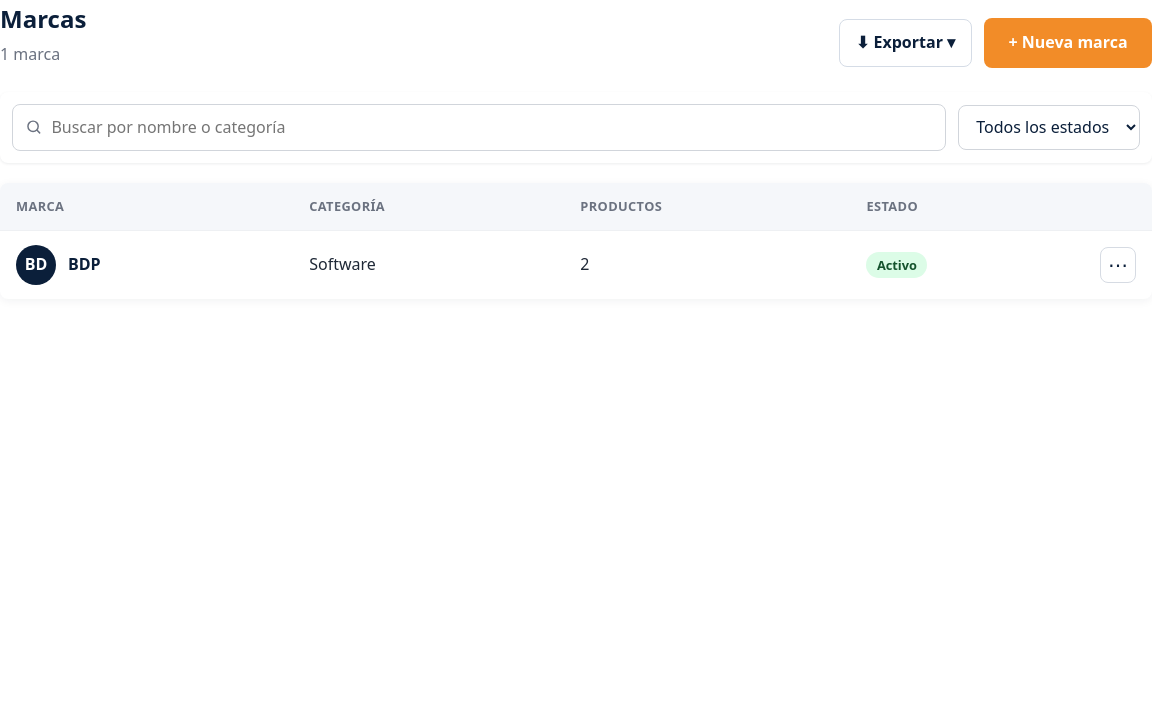
Test case: admin CRUD screens › Marcas: lists the brands, creates one and deletes one after confirming
Step 1. Click the button "+ Nueva marca" → click(1068, 43), box [984,18,1151,68]
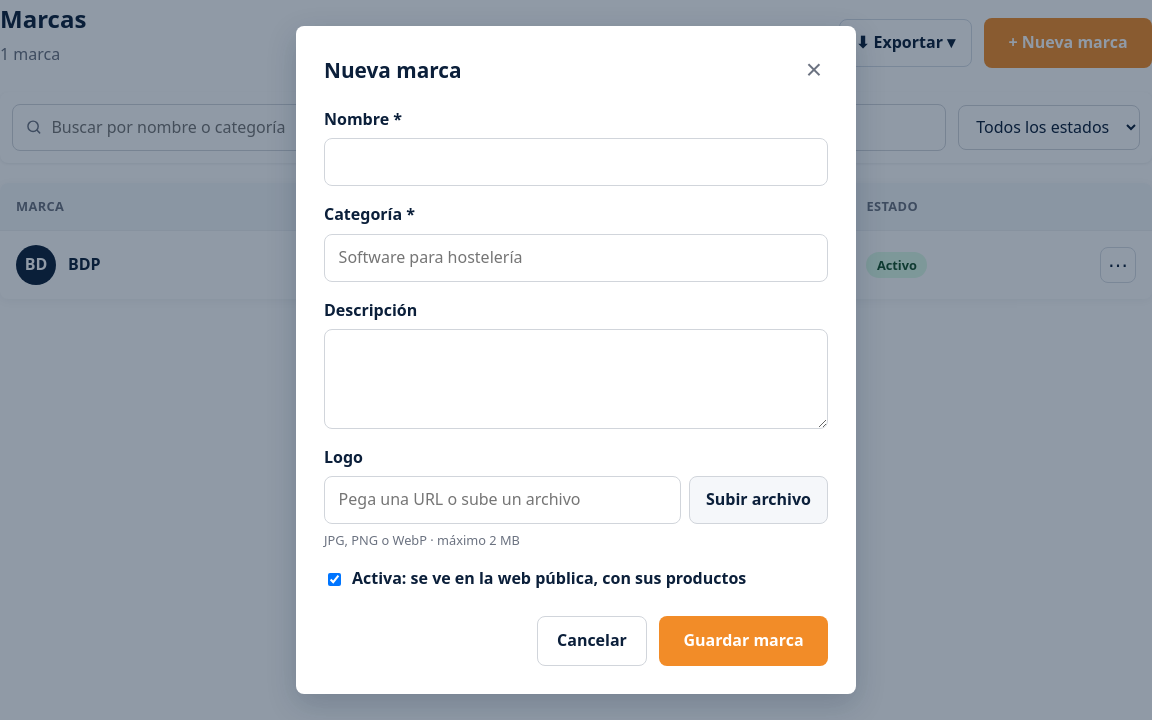
Step 2. Type "PUDU" into the field with id "brand-name" → (576, 162), box [324,138,828,186]
Step 3. Type "Robots" into the field with id "brand-category" → (576, 258), box [324,234,828,282]
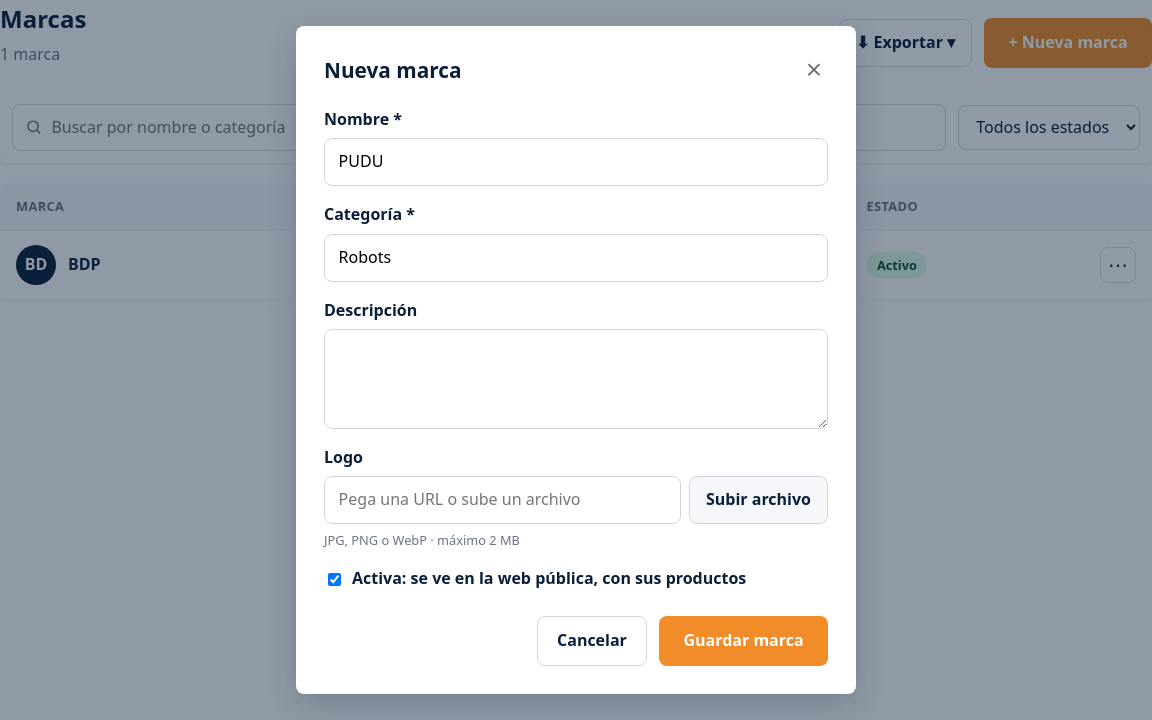
Step 4. Submit the form, box [324,107,828,666]
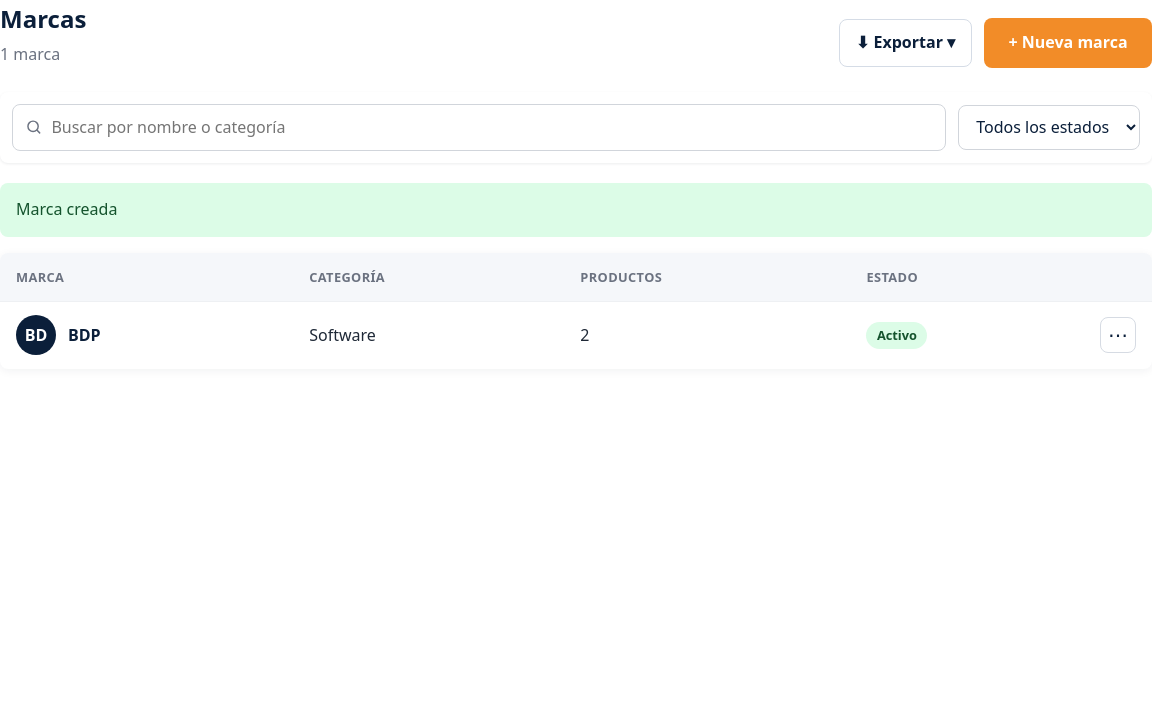
Expected: the message "Marca creada" is shown, [0,183,1151,237]
Step 5. Click the button with test id "row-actions" showing "⋯" → click(1118, 335), box [1100,317,1136,353]
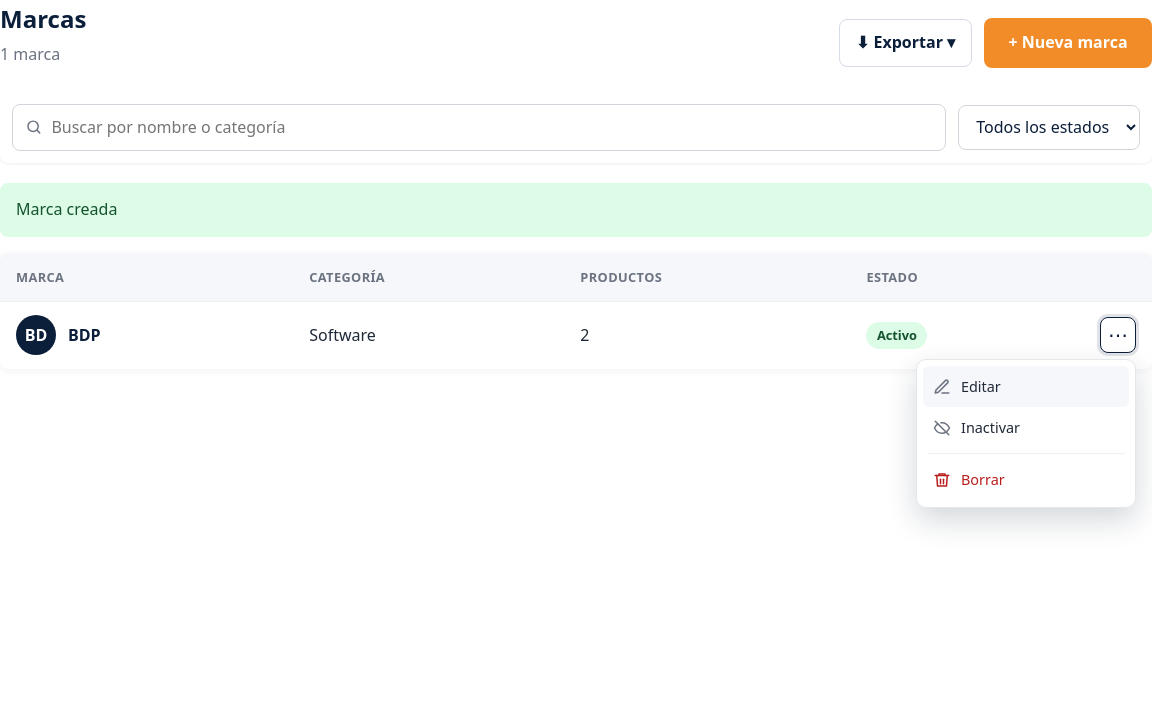
Step 6. Click the menu item "Borrar" → click(1026, 480), box [923,460,1129,500]
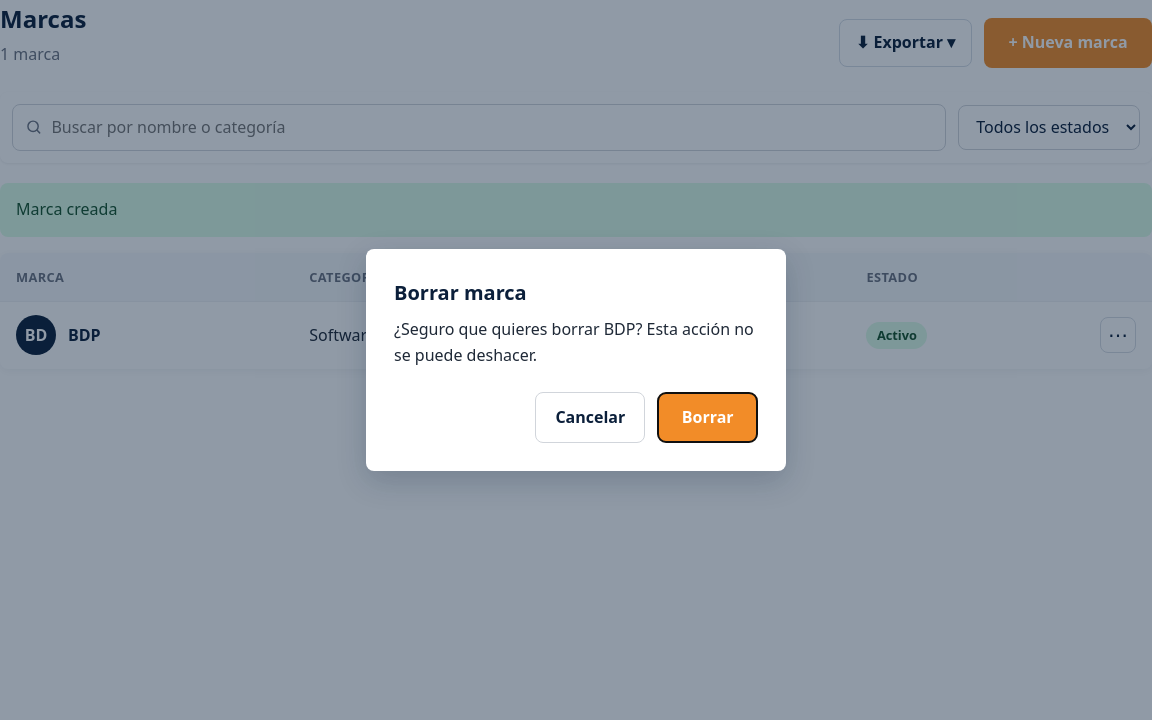
Step 7. Click the button with class "confirm-dialog__confirm" → click(708, 418), box [657,392,758,443]
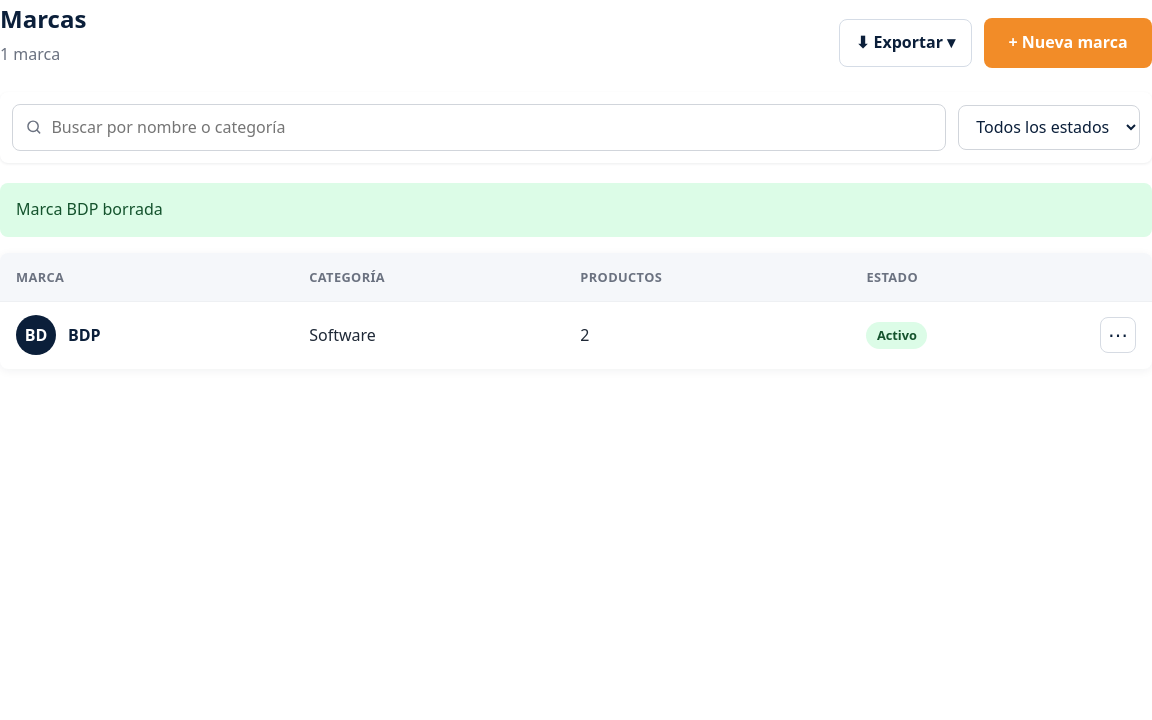
Expected: the message "Marca BDP borrada" is shown, [0,183,1151,237]
